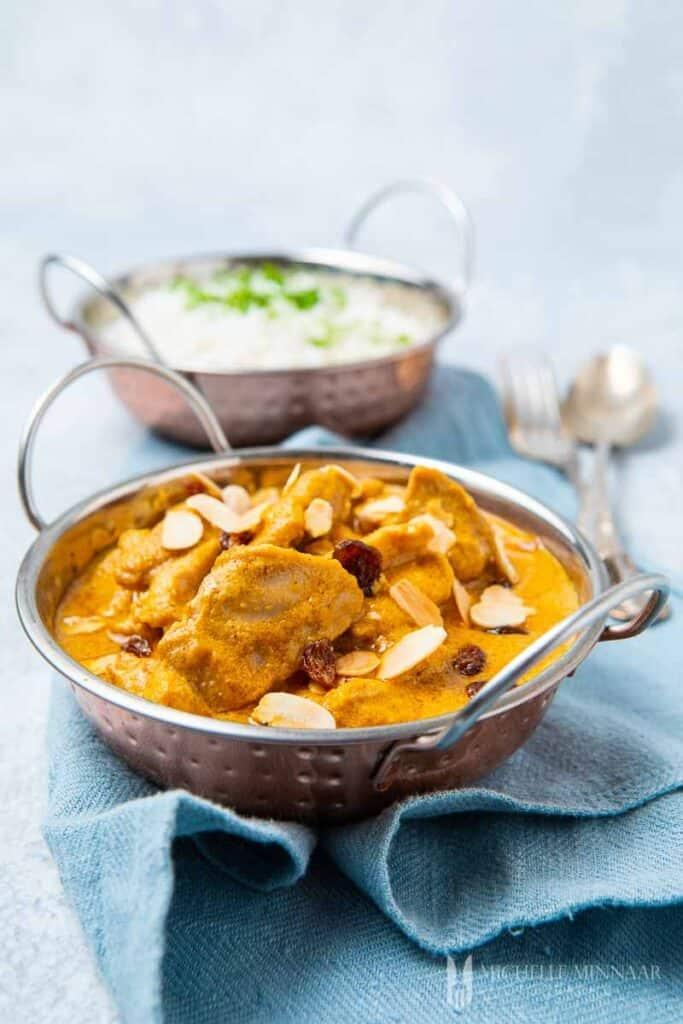chicken: (47, 466, 630, 725)
